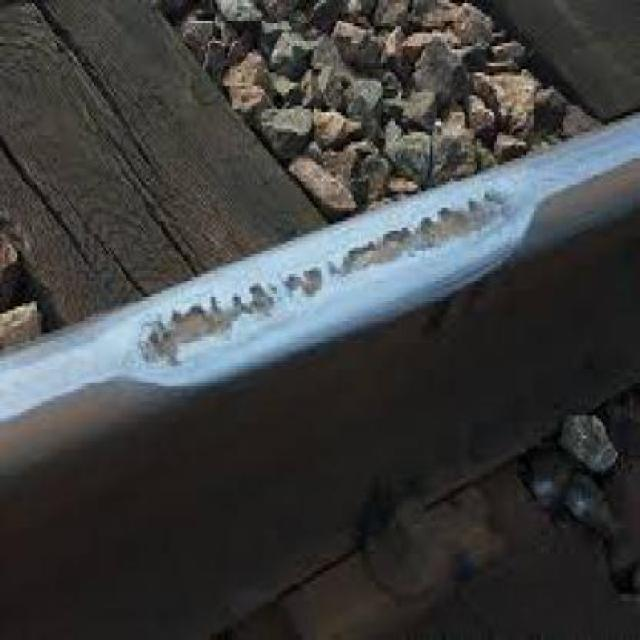defective: (98, 148, 543, 410)
